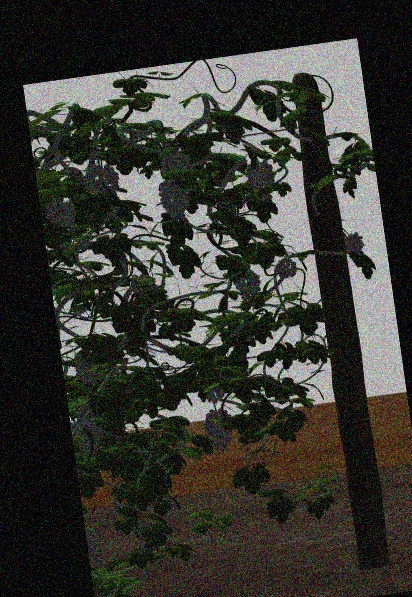grape: (202, 406, 236, 451), (158, 179, 188, 220), (246, 161, 276, 199), (75, 419, 105, 457), (86, 165, 119, 196), (43, 197, 76, 228), (234, 270, 261, 299), (160, 152, 190, 173), (275, 258, 297, 279), (343, 232, 363, 254)
